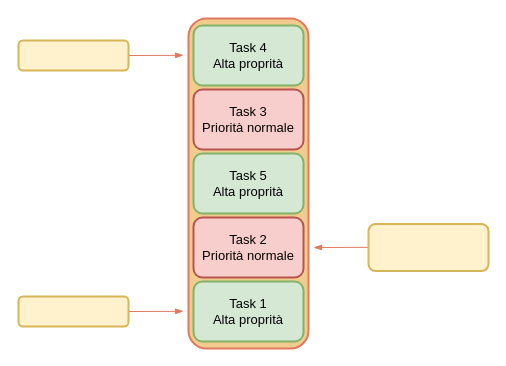
The diagram is 506 pixels wide and 366 high, and some of its shapes have lost their labels. The shapes that lost their labels are listed below. From the top down, each one's centre as x and y in pixels, then its label:
At pixel 73 55: "Cima della coda".
At pixel 428 247: "Secondo Task con priorità normale".
At pixel 73 311: "Fondo della coda".
